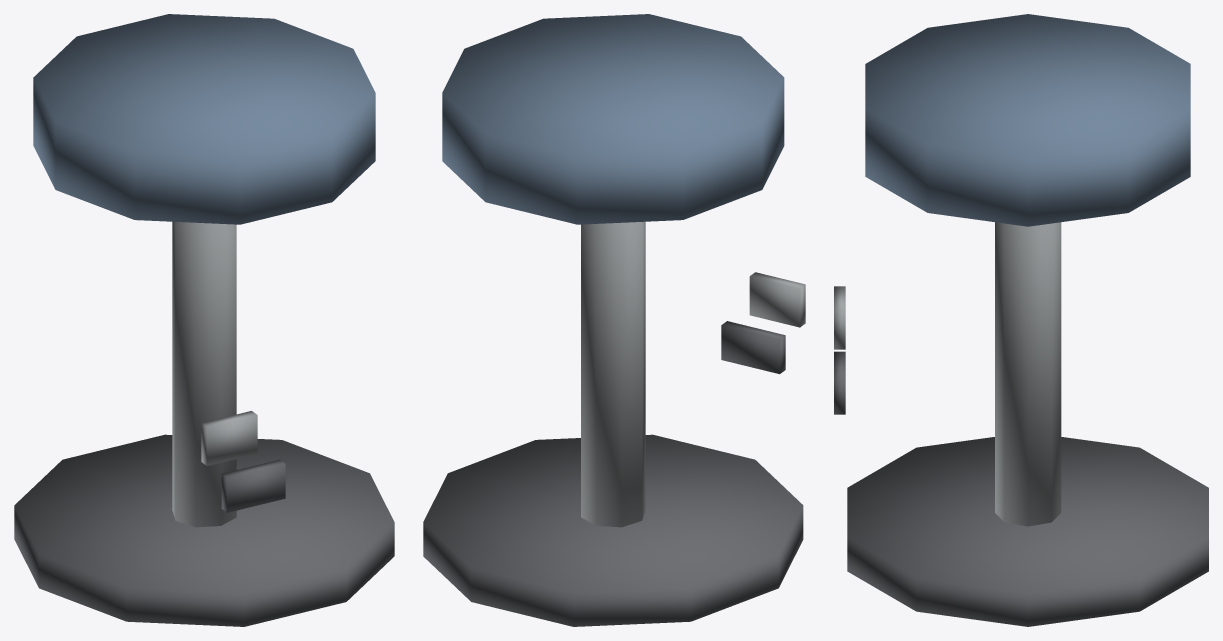
The model's file is lab_stool__weathered.glb.
3 renders of one model, left to right at view 1: azimuth 30°, elevation 25°; view 2: azimuth 150°, elevation 25°; view 3: azimuth 270°, elevation 25°, orthographic.
Visible parts, largest first — view 1: world; view 2: world; view 3: world.
Boxes of the visible parts, bbox=[...] form: world: bbox=[14, 14, 394, 626]; world: bbox=[423, 14, 805, 626]; world: bbox=[834, 14, 1208, 626].
Size of the model in its own units: 0.4 by 0.5346 by 0.3944.
